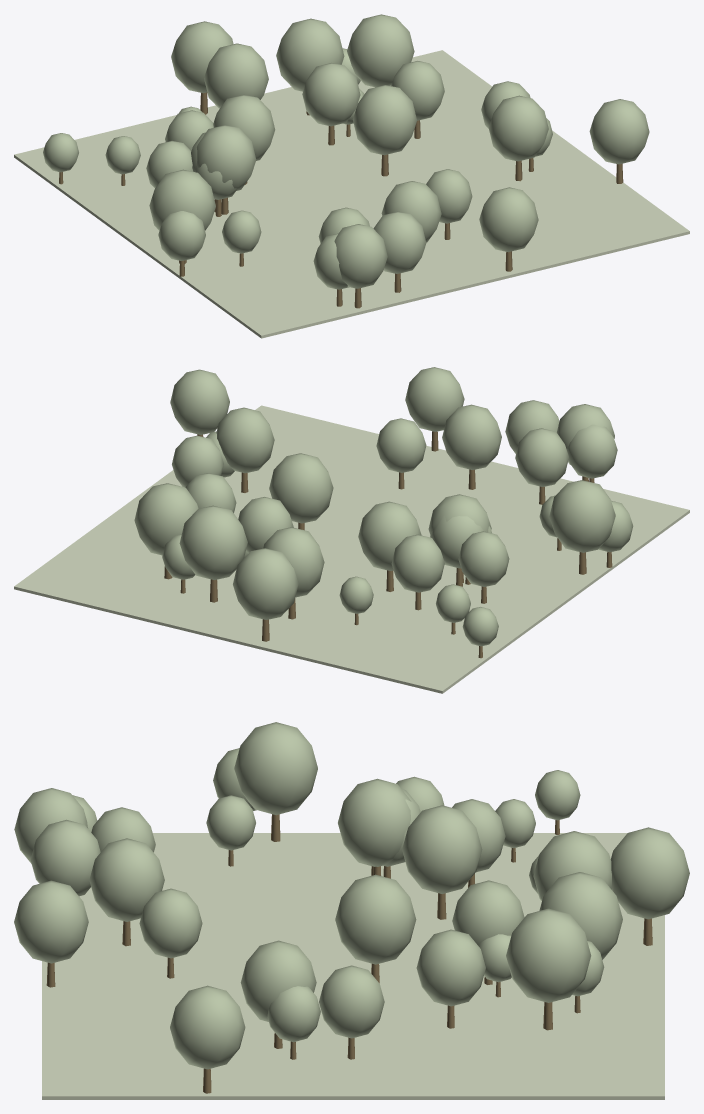
The picture shows the model from 3 angles, top to bottom: view 1: azimuth 30°, elevation 25°; view 2: azimuth 150°, elevation 25°; view 3: azimuth 270°, elevation 25°; orthographic projection. The views are drawn at different scales.
Visible parts, largest first — view 1: terrain, lod-near-5, lod-near-28, lod-near-2, lod-near-9, lod-near-19, lod-near-29, lod-near-3, lod-near-26, lod-near-13, lod-near-17, lod-near-12 (+16 smaller); view 2: terrain, lod-near-2, lod-near-17, lod-near-15, lod-near-28, lod-near-30, lod-near-5, lod-near-19, lod-near-9, lod-near-3, lod-near-21, lod-near-20 (+17 smaller); view 3: terrain, lod-near-5, lod-near-17, lod-near-15, lod-near-28, lod-near-21, lod-near-13, lod-near-19, lod-near-3, lod-near-30, lod-near-23, lod-near-2 (+17 smaller).
Part boxes in pixels (<box>): terrain: <box>14,50,689,338</box>; lod-near-5: <box>347,14,414,87</box>; lod-near-28: <box>352,85,416,155</box>; lod-near-2: <box>276,18,344,91</box>; lod-near-9: <box>488,95,548,161</box>; lod-near-19: <box>589,99,649,164</box>; lod-near-29: <box>204,43,268,108</box>; lod-near-3: <box>479,187,538,252</box>; lod-near-26: <box>302,63,360,126</box>; lod-near-13: <box>196,125,256,190</box>; lod-near-17: <box>149,169,215,230</box>; lod-near-12: <box>334,224,387,288</box>; terrain: <box>14,405,689,693</box>; lod-near-2: <box>179,505,247,579</box>; lod-near-17: <box>549,480,615,552</box>; lod-near-15: <box>233,548,298,619</box>; lod-near-28: <box>269,453,333,523</box>; lod-near-30: <box>442,404,501,469</box>; lod-near-5: <box>134,483,198,555</box>; lod-near-19: <box>170,369,229,434</box>; lod-near-9: <box>216,407,274,473</box>; lod-near-3: <box>405,367,464,431</box>; lod-near-21: <box>358,501,421,570</box>; lod-near-20: <box>515,428,568,486</box>; terrain: <box>42,833,664,1099</box>; lod-near-5: <box>506,908,591,1002</box>; lod-near-17: <box>234,722,317,815</box>; lod-near-15: <box>610,827,689,919</box>; lod-near-28: <box>335,874,416,964</box>; lod-near-21: <box>402,805,482,893</box>; lod-near-13: <box>338,778,411,866</box>; lod-near-19: <box>170,985,245,1069</box>; lod-near-3: <box>14,880,88,963</box>; lod-near-30: <box>89,838,164,921</box>; lod-near-23: <box>416,929,485,1006</box>; lod-near-2: <box>539,872,622,959</box>.
Size of the model in its own units: 35.09 by 6.98 by 34.71.
